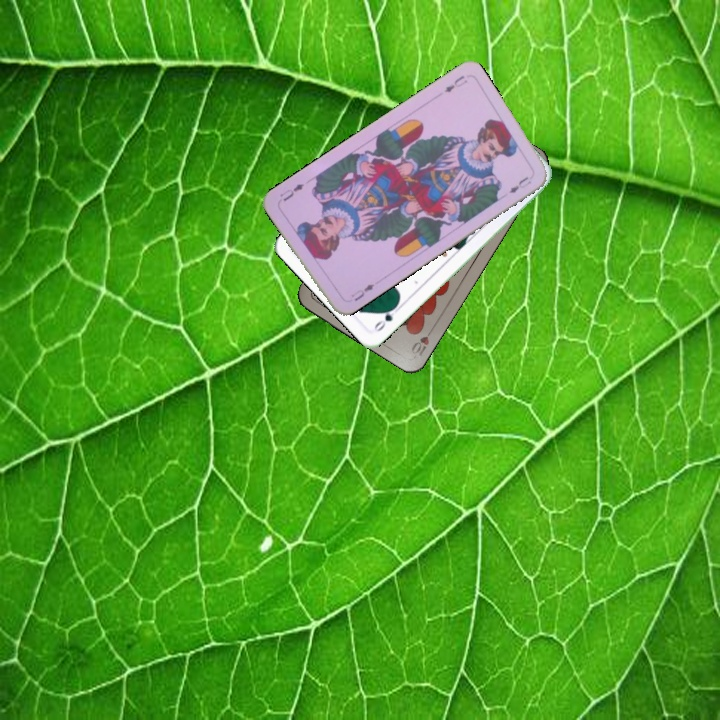EU: (347, 279, 377, 304), (440, 71, 470, 95)
GO: (370, 300, 403, 334)
H10: (407, 322, 437, 359)
